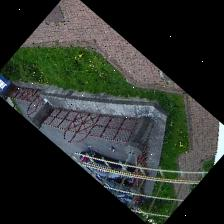person: (87, 145, 98, 155)
